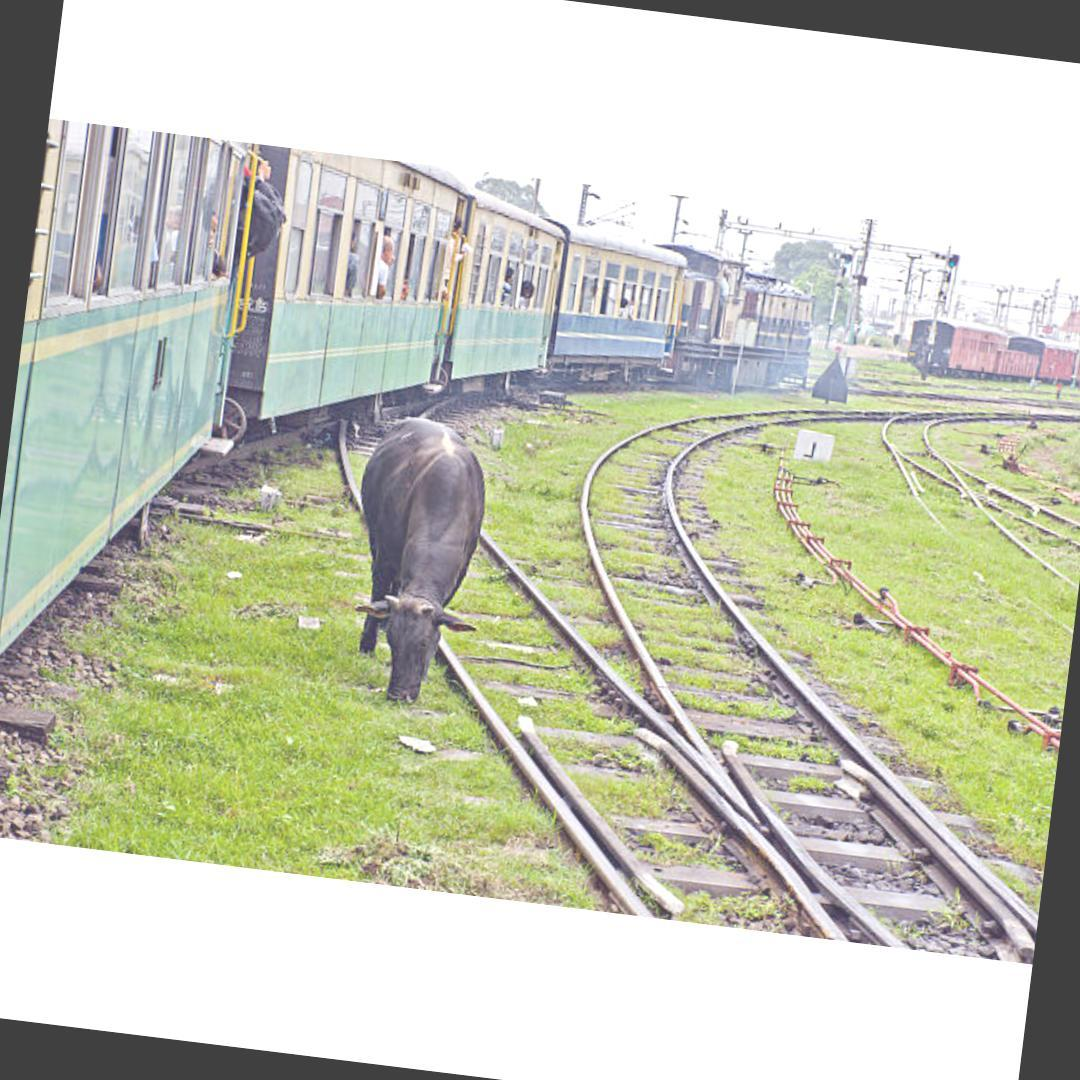track: (552, 397, 1080, 963), (326, 400, 853, 941)
